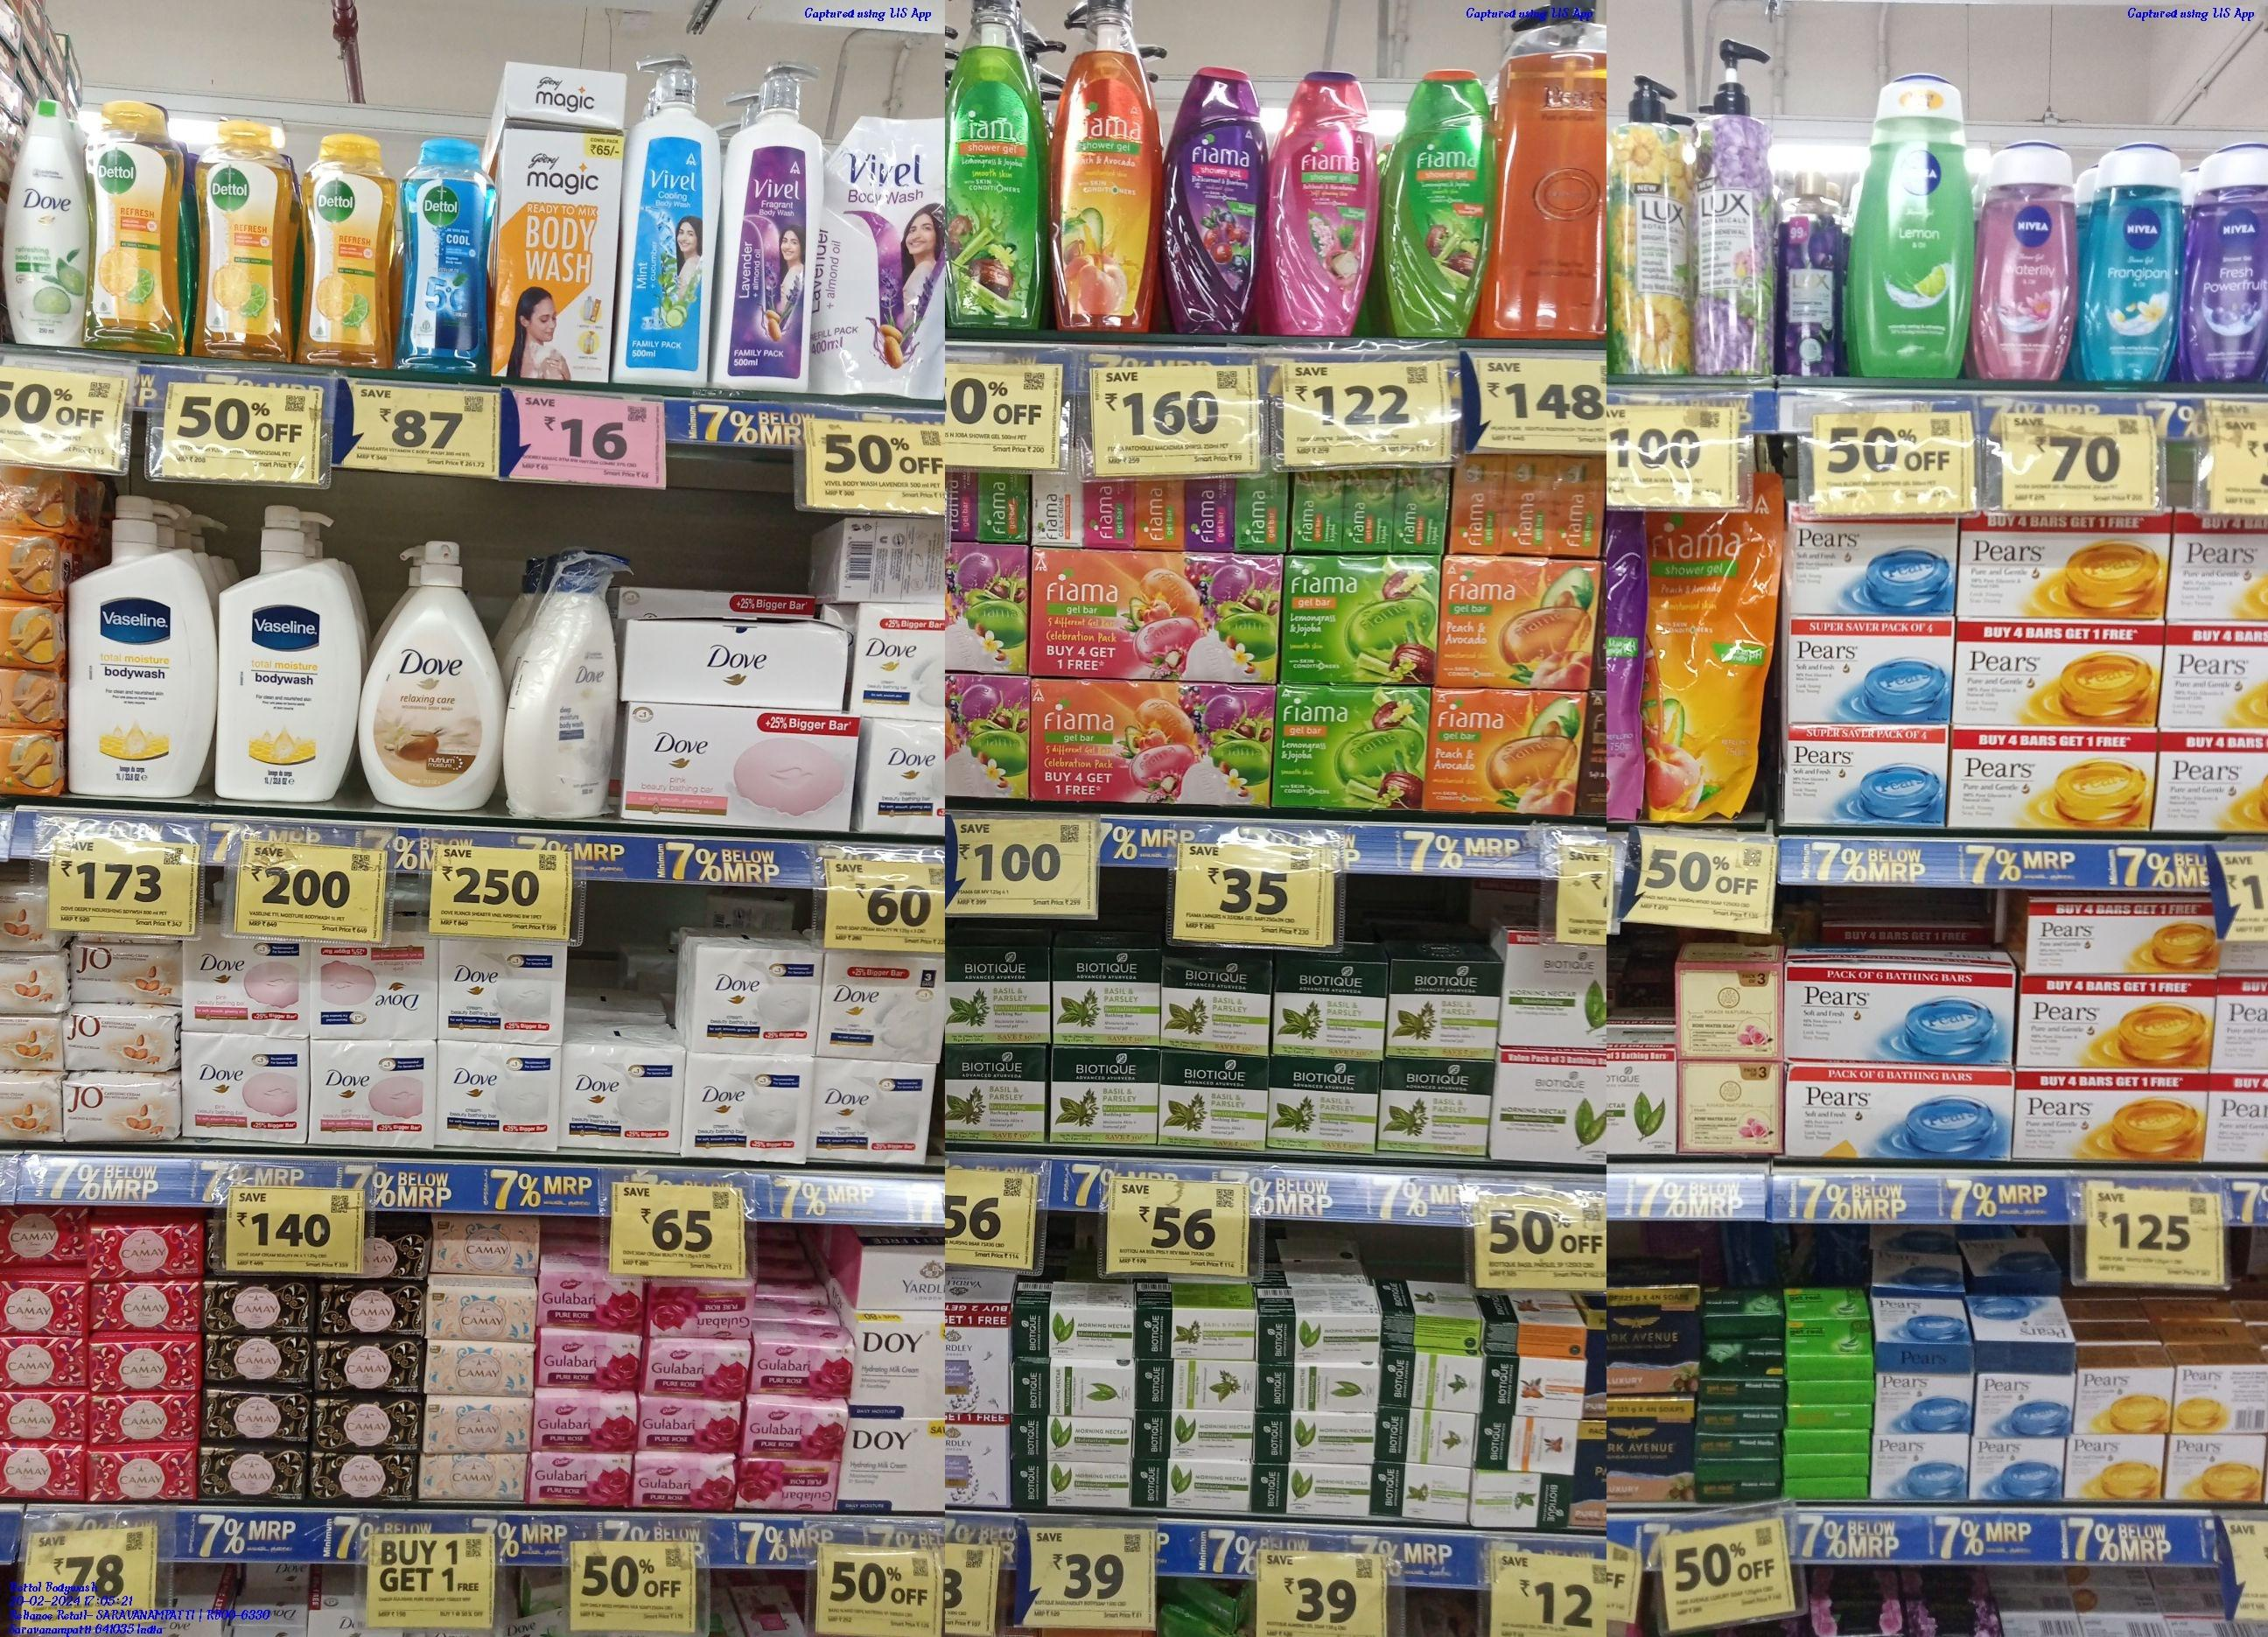Dettol_Bodywash_Cool: (403, 141, 493, 371)
Dettol_Bodywash_Refresh: (194, 104, 292, 359), (93, 99, 181, 357), (301, 128, 393, 368)
Dove_Refreshing_Body_Wash_250ML: (5, 92, 88, 345)
Fiama_Shower_Gel_Lemongrass_and_Jojoba_250ML: (1388, 72, 1493, 334)
Fiama_Shower_Gel_Patchouli_and_Macadamia_250ML: (1270, 70, 1384, 340)
Lux_Black_Orchid_Scent_and_Juniper_Oil_Body_Wash_245ML: (1775, 167, 1844, 375)
Nivea_Shower_Gel_Frangipani_and_Oil_250ML: (2085, 141, 2182, 385)
Nivea_Shower_Gel_Fresh_Powerfruit_250ML: (2187, 141, 2268, 391)
Nivea_Shower_Gel_Lemon_and_Oil_250ML: (1854, 72, 1974, 380)
Nivea_Shower_Gel_Waterlily_and_Oil_250ML: (1979, 137, 2074, 380)
